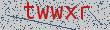r: (78, 5, 94, 27)
t: (21, 1, 36, 26)
w: (35, 3, 50, 26), (50, 4, 64, 27)
x: (64, 3, 79, 26)
